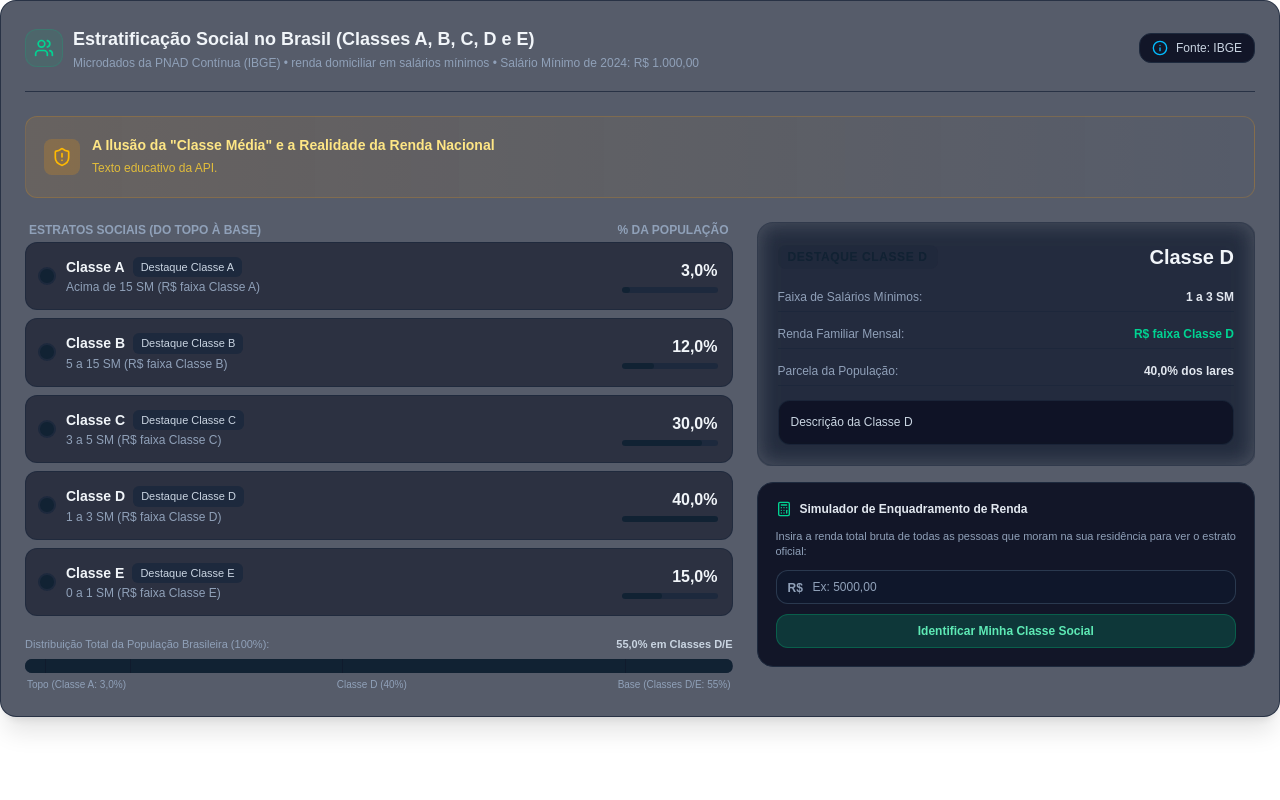
Test: SocialClassesExplainer › simulador enquadra a renda nas faixas vindas da API
Expected: the text "Descrição da Classe D" is shown, [778, 400, 1234, 445]
Type "5.000,00" into the field named "Renda familiar mensal" at (1006, 587), box [776, 570, 1236, 604]
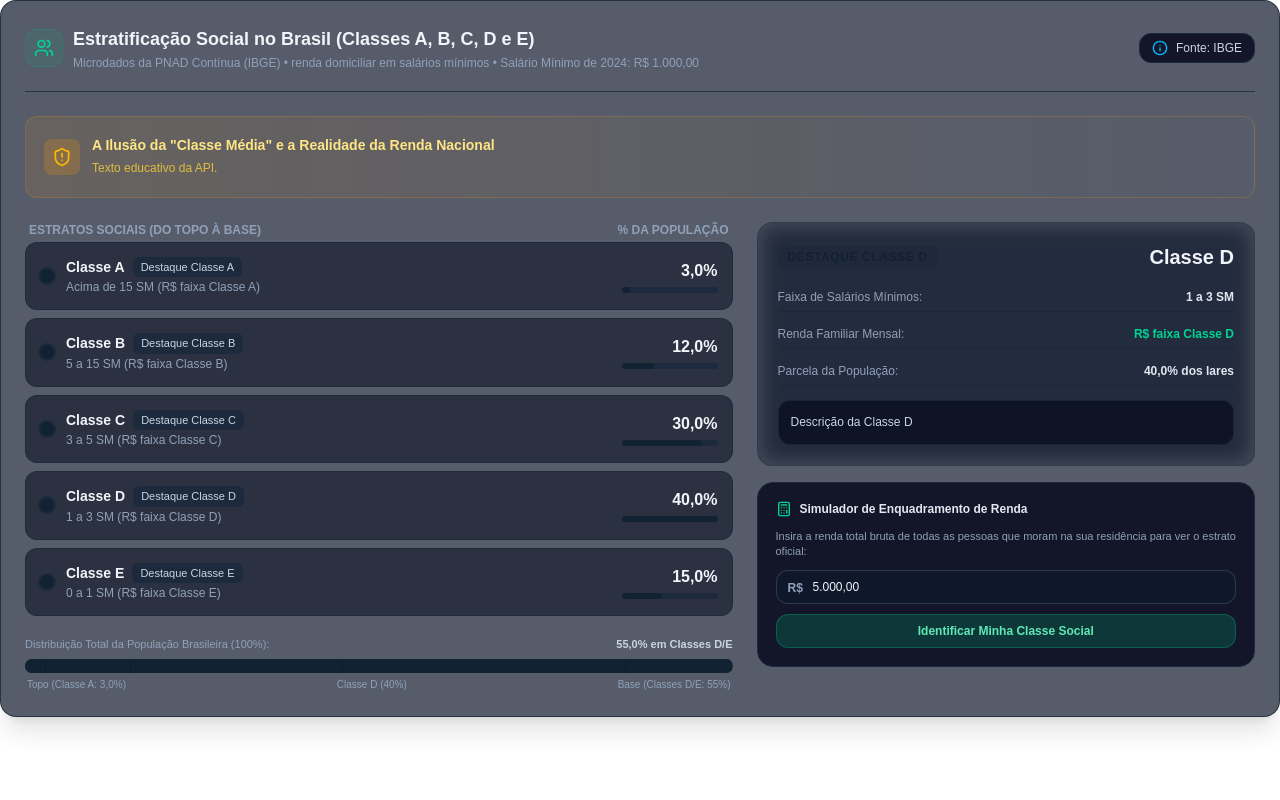
Click the button "Identificar Minha Classe Social" at (1006, 631), box [776, 614, 1236, 648]
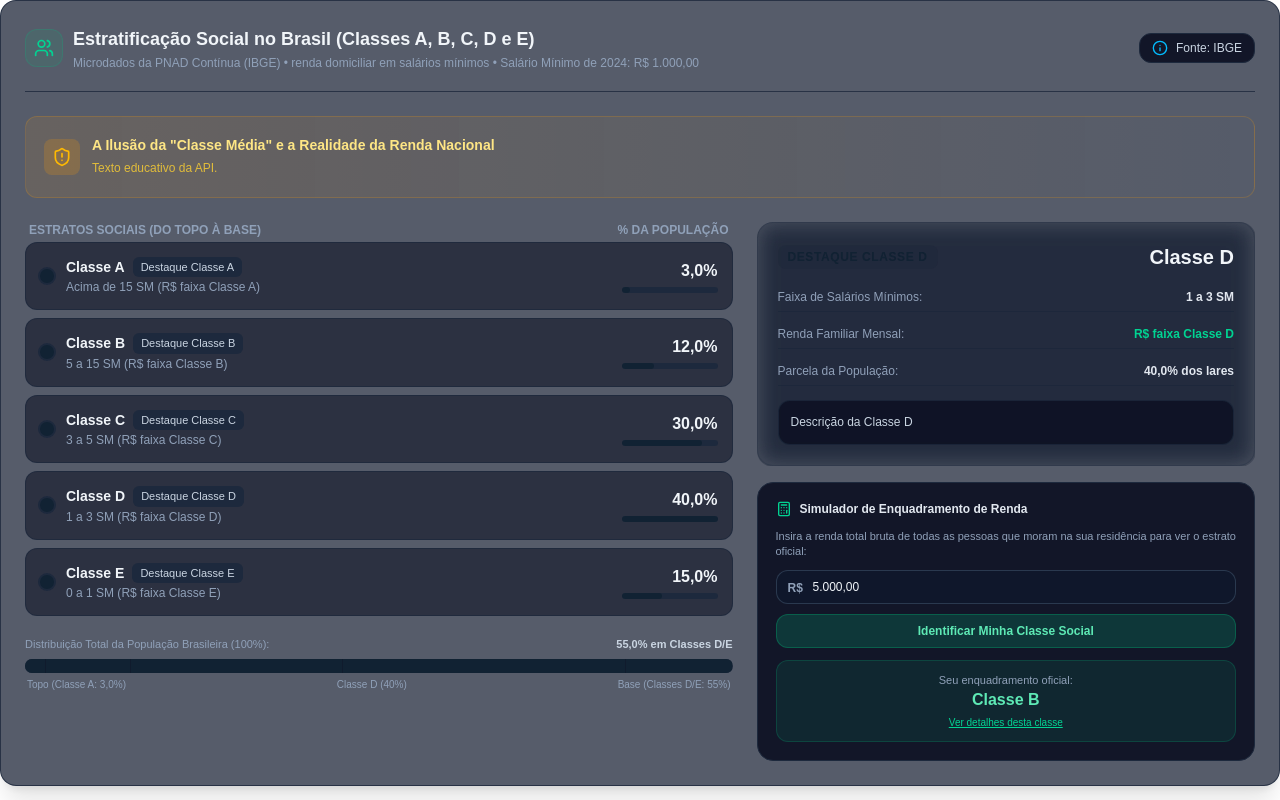
Expected: the text "Classe B" below "Seu enquadramento oficial:" is shown, [972, 691, 1040, 708]
Click the button "Ver detalhes desta classe" at (1006, 723), box [949, 716, 1063, 729]
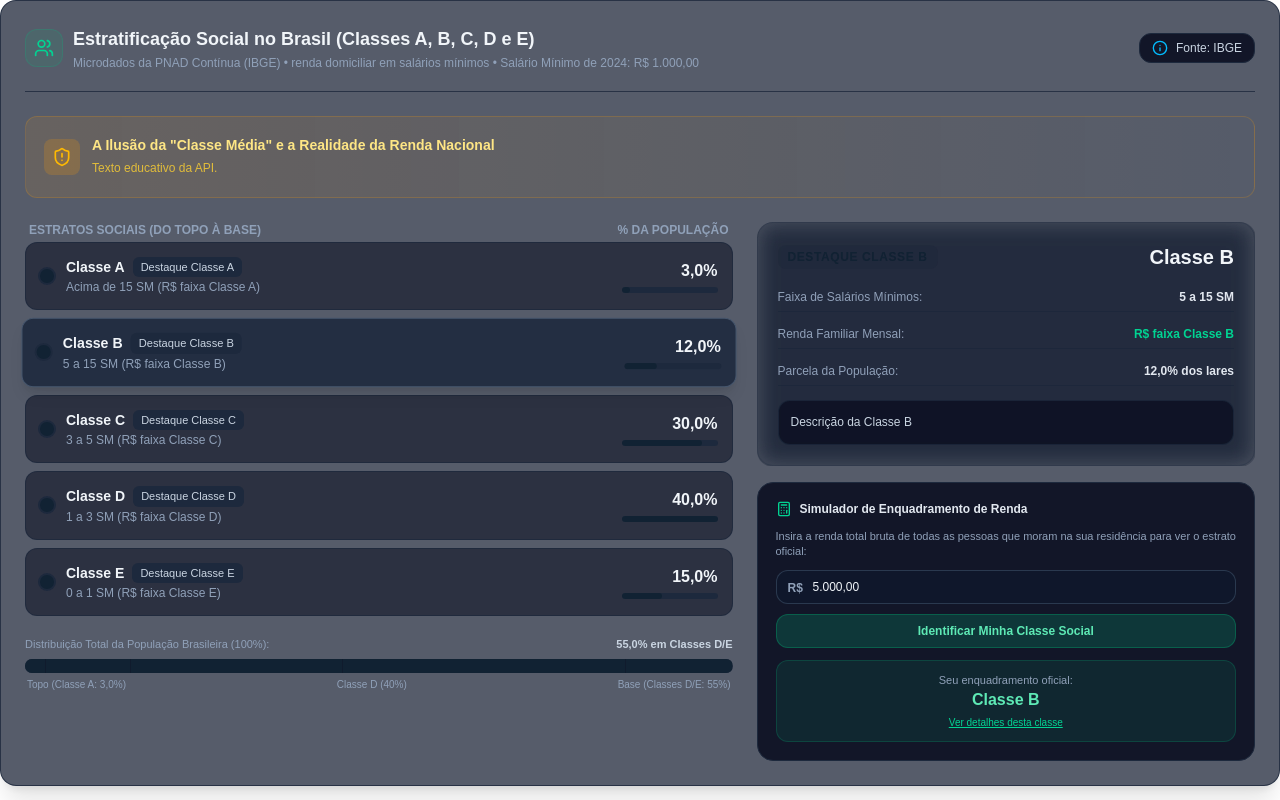
Expected: the text "Descrição da Classe B" is shown, [778, 400, 1234, 445]
# limite superior exclusivo: 15 SM já é Classe A
Replace the text in the field named "Renda familiar mensal" with "15000" at (1006, 587), box [776, 570, 1236, 604]
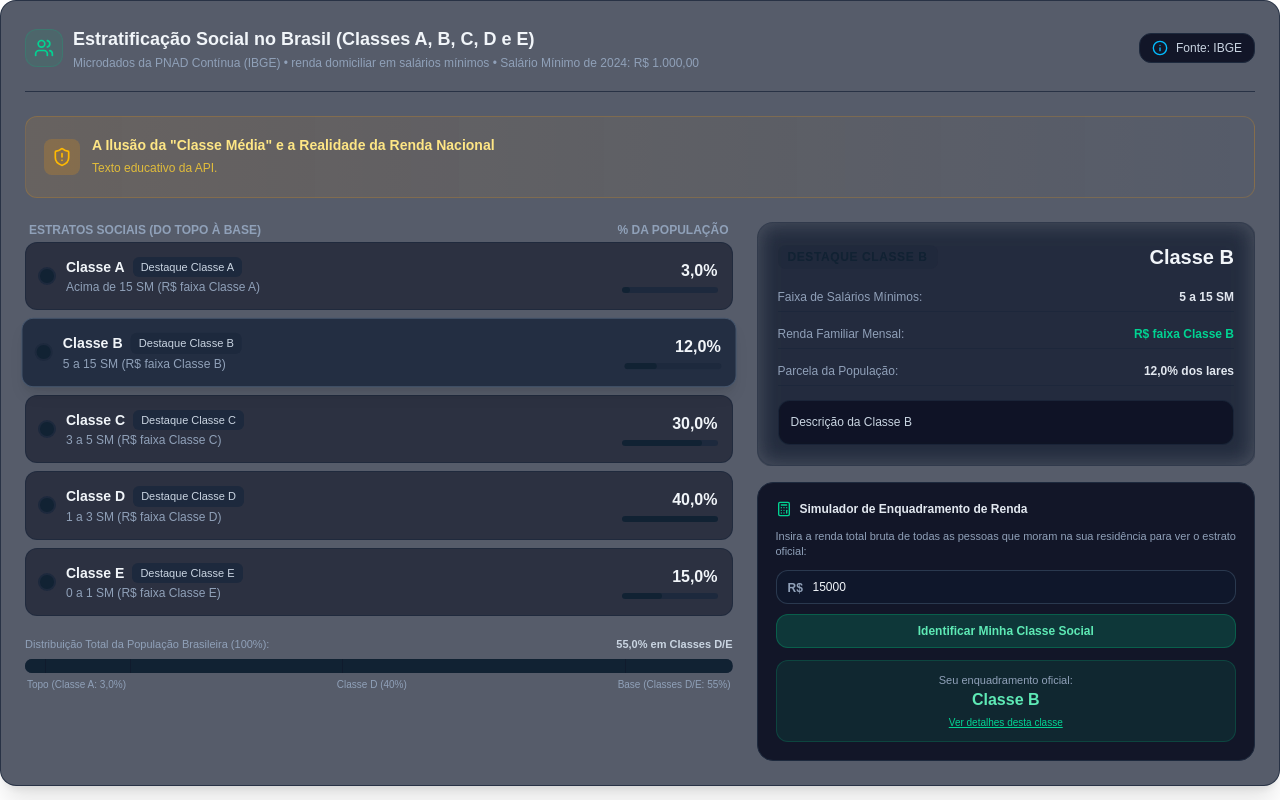
Click the button "Identificar Minha Classe Social" at (1006, 631), box [776, 614, 1236, 648]
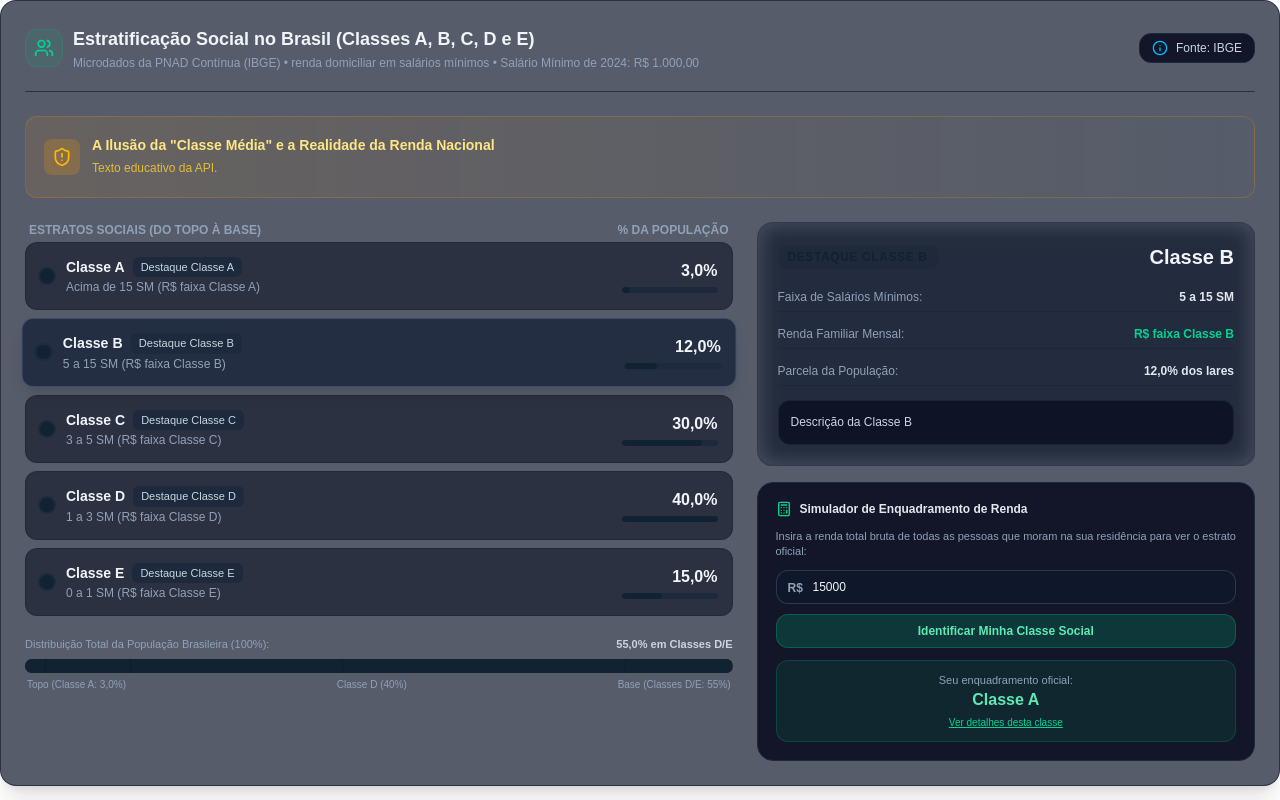
Expected: the text "Classe A" below "Seu enquadramento oficial:" is shown, [972, 691, 1039, 708]
